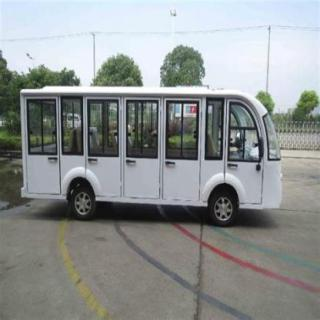Normal_vehicle: (16, 74, 314, 240)
